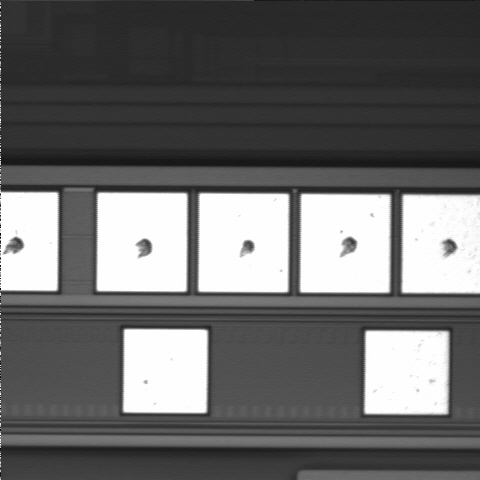pad: (97, 193, 187, 292), (300, 194, 390, 293), (199, 193, 288, 292), (123, 329, 207, 413), (365, 331, 448, 414)
